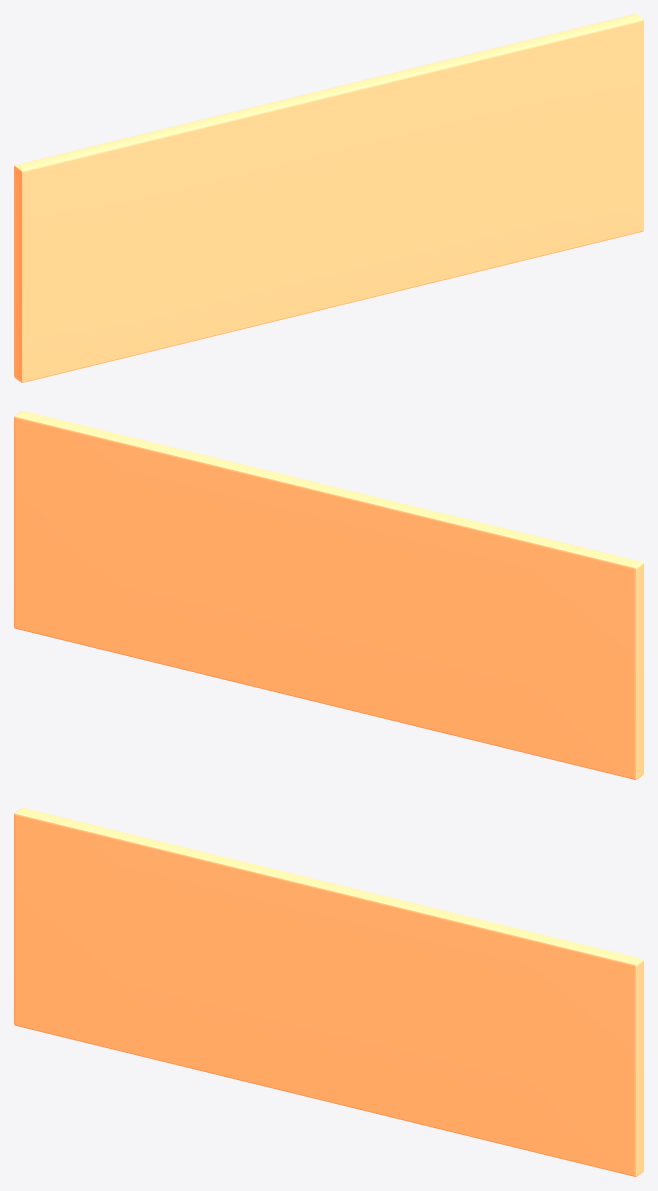
The model's file is SM_Wall_NavigationFront.fbx.
3 renders of one model, top to bottom at view 1: azimuth 30°, elevation 25°; view 2: azimuth 150°, elevation 25°; view 3: azimuth 330°, elevation 25°, orthographic.
Visible parts, largest first — view 1: SM_Wall_NavigationFront; view 2: SM_Wall_NavigationFront; view 3: SM_Wall_NavigationFront.
Boxes of the visible parts, x1=… form: SM_Wall_NavigationFront: x1=14, y1=14, x2=643, y2=382; SM_Wall_NavigationFront: x1=14, y1=411, x2=643, y2=779; SM_Wall_NavigationFront: x1=14, y1=808, x2=643, y2=1176.
Bounding box in the file's own units: 828 × 20 × 270.
